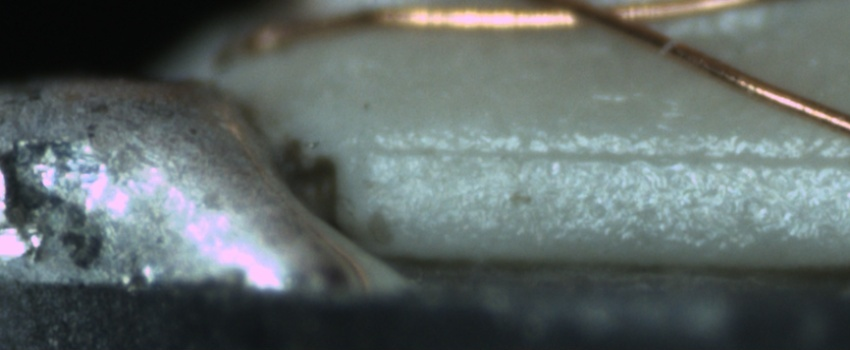CL: (520, 0, 670, 36)
DL: (373, 135, 850, 184)
